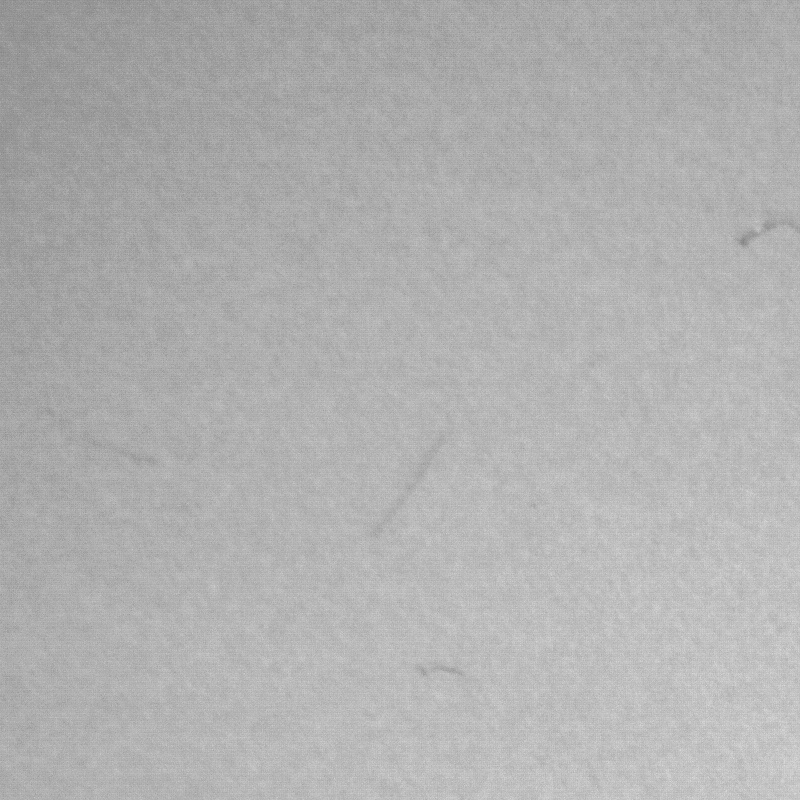defect: (372, 441, 443, 535), (735, 217, 800, 243), (407, 664, 472, 685)
